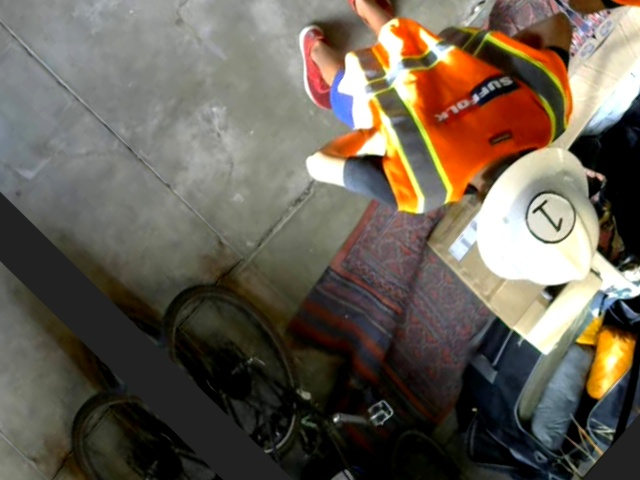one: (517, 180, 583, 251)
